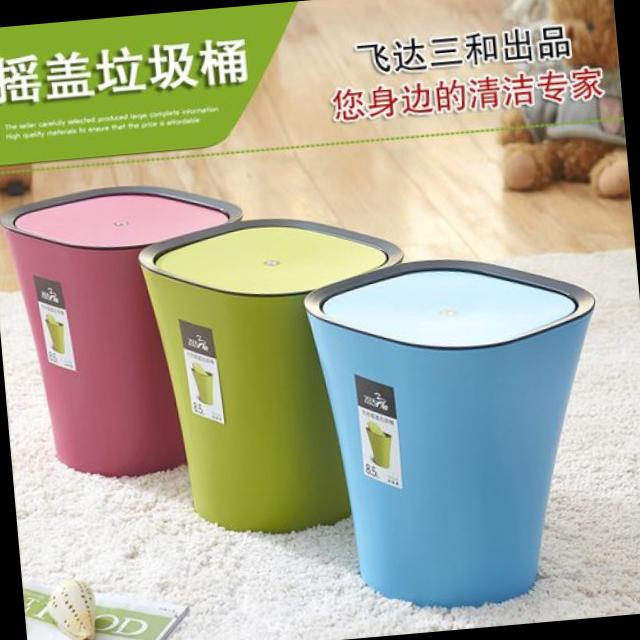dustbin: (287, 238, 628, 624), (128, 189, 428, 549), (0, 172, 265, 489)
